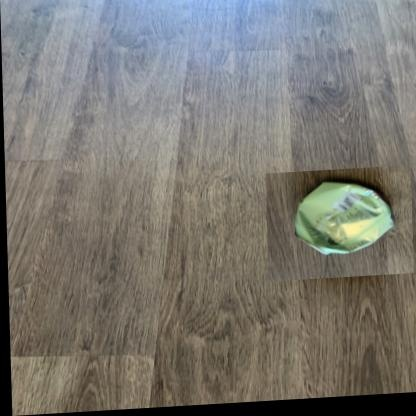trash: (295, 182, 393, 254)
